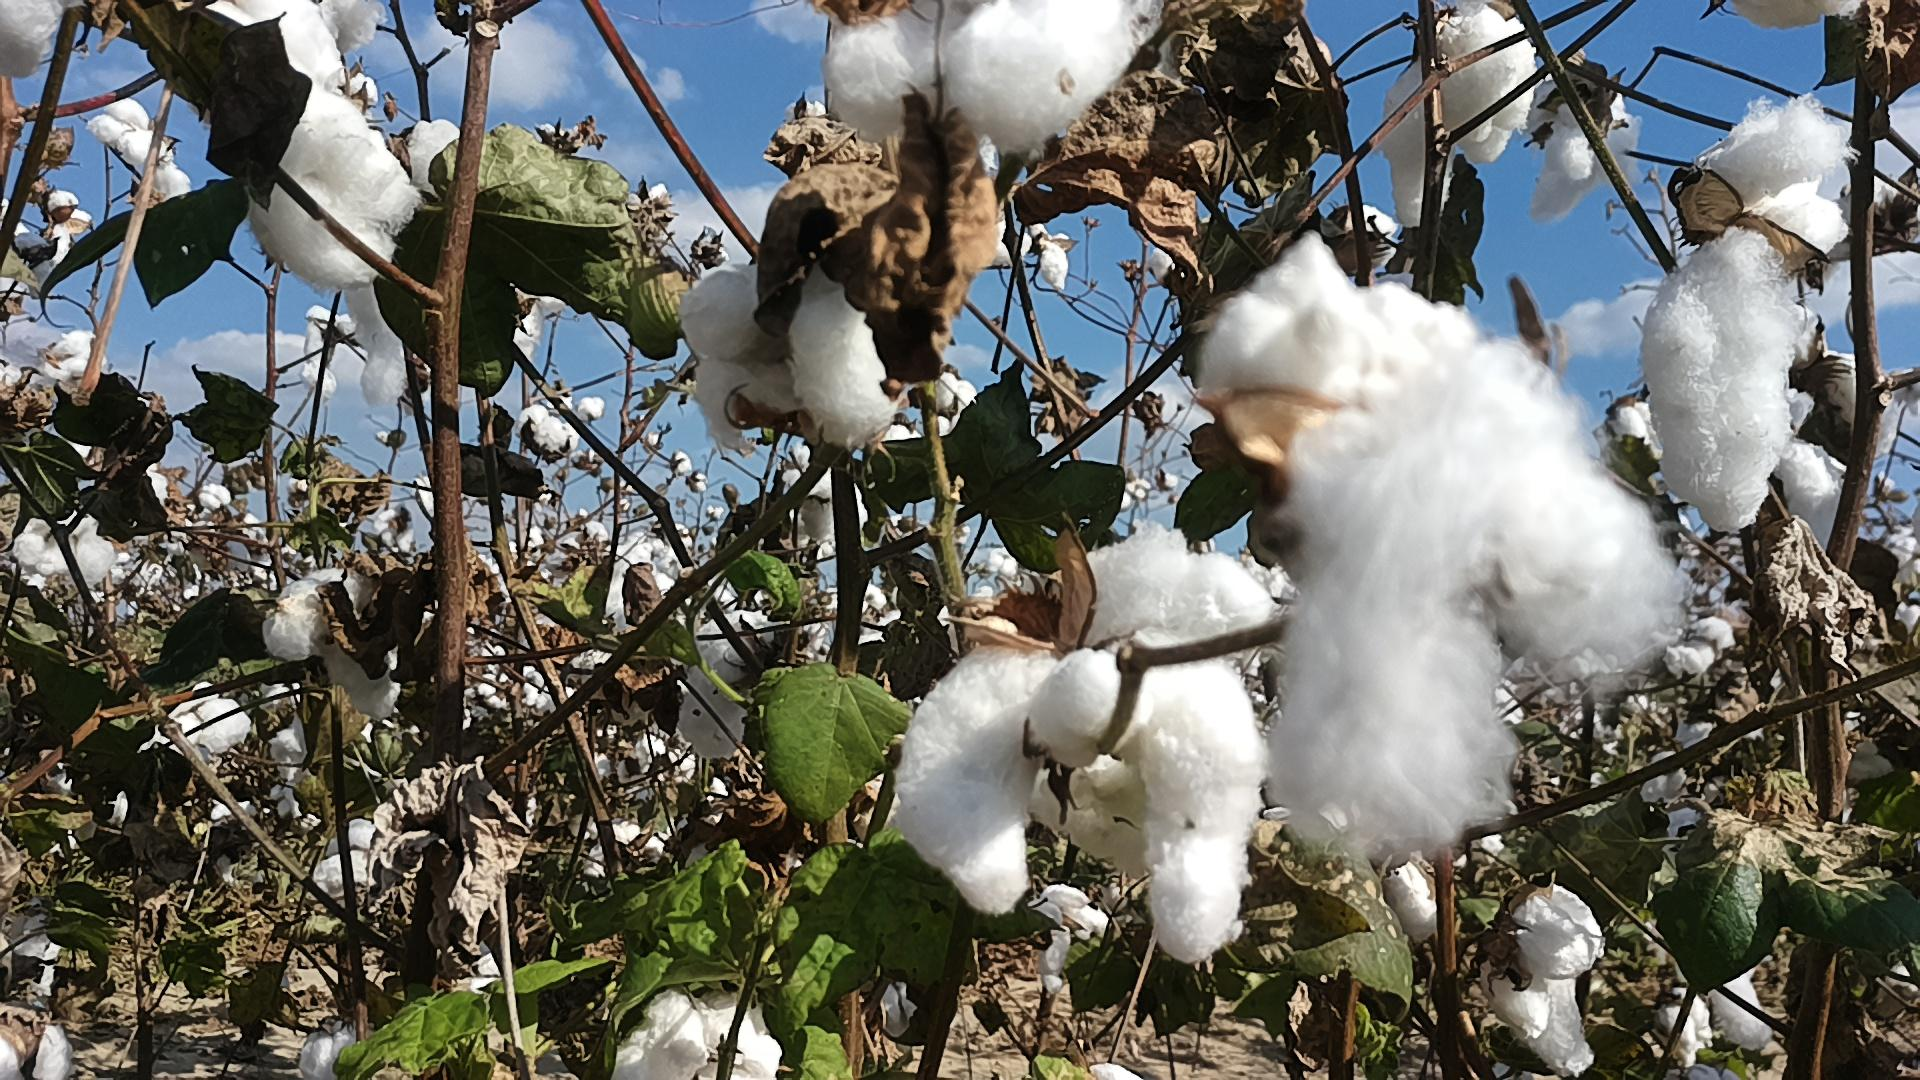cotton_ready: (1193, 231, 1688, 865), (890, 521, 1278, 963), (1642, 91, 1863, 537), (167, 0, 423, 293), (822, 0, 1168, 158), (683, 241, 919, 454), (1383, 0, 1540, 233), (596, 568, 778, 758), (351, 116, 464, 407), (1486, 884, 1604, 1080), (1767, 301, 1858, 553), (261, 563, 402, 719), (1646, 915, 1774, 1071), (1532, 63, 1648, 225), (605, 978, 786, 1080), (1038, 886, 1118, 1002), (508, 285, 582, 368), (0, 0, 69, 83), (0, 1010, 74, 1080), (1727, 0, 1874, 30)
